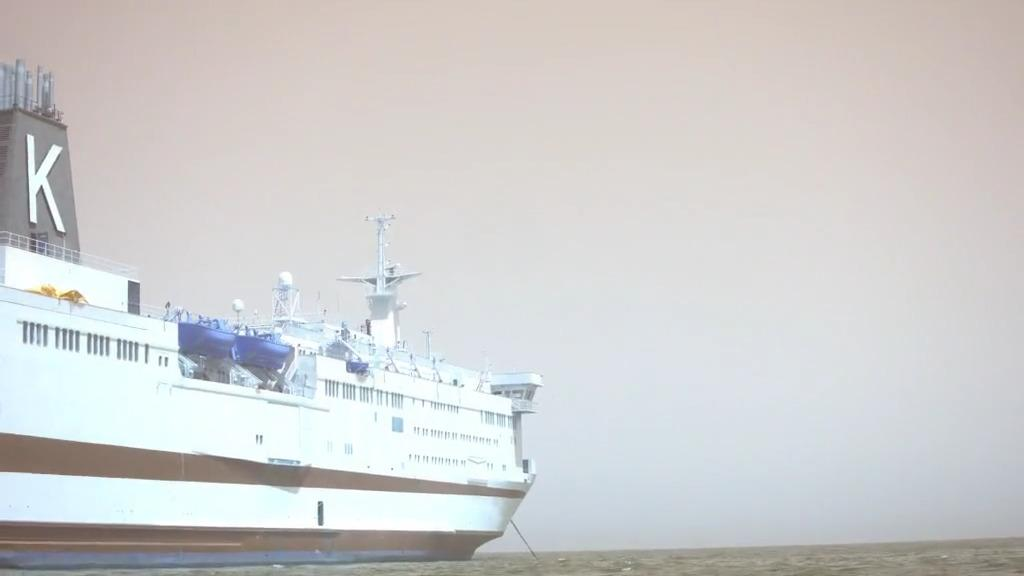PassengerShip: (0, 58, 564, 576)
